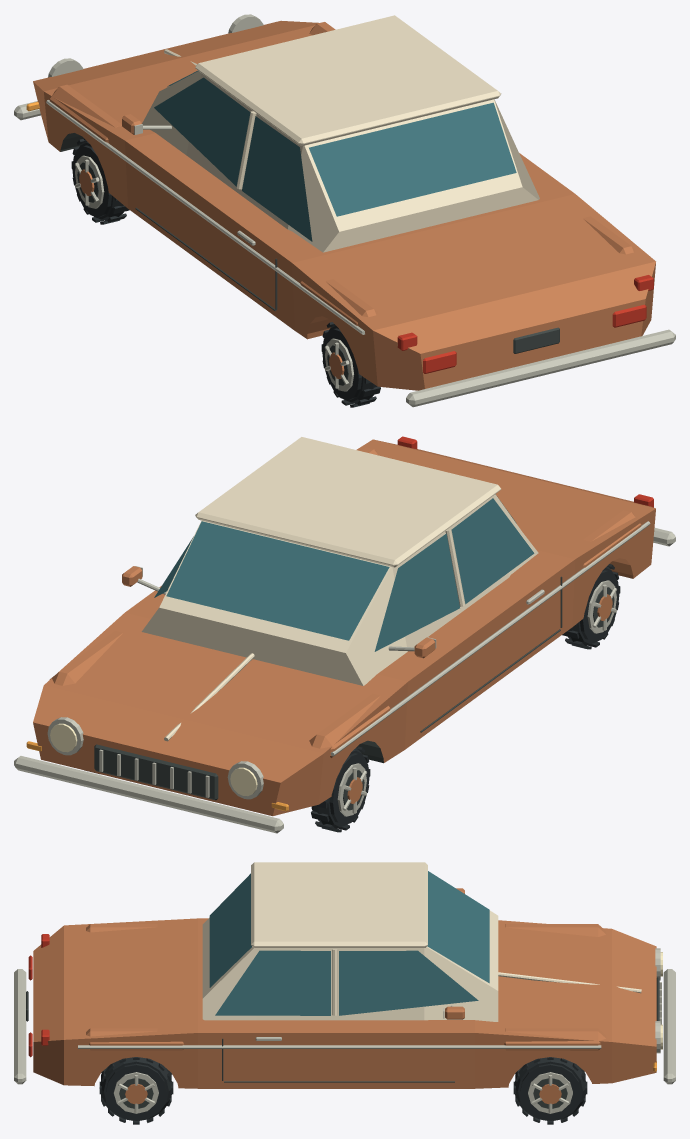
File: car.glb
The picture shows the model from 3 angles, top to bottom: view 1: azimuth 30°, elevation 25°; view 2: azimuth 150°, elevation 25°; view 3: azimuth 270°, elevation 25°; orthographic projection. The views are drawn at different scales.
Visible parts, largest first — view 1: CarModel Copper enamel, CarModel Warm cream, CarModel Teal canopy, CarModel Warm alloy, CarModel Red lamp, Spin.001 Rubber charcoal, Spin Rubber charcoal, CarModel Dark grille, Spin Warm alloy, Spin.001 Warm alloy; view 2: CarModel Copper enamel, CarModel Warm cream, CarModel Teal canopy, CarModel Warm alloy, CarModel Dark grille, Spin Rubber charcoal, Spin.001 Rubber charcoal, CarModel Ivory lamp, Spin.001 Warm alloy, Spin Warm alloy; view 3: CarModel Copper enamel, CarModel Warm cream, CarModel Teal canopy, CarModel Warm alloy, Spin.002 Rubber charcoal, Spin.003 Rubber charcoal, Spin.003 Warm alloy, Spin.002 Warm alloy, CarModel Dark grille, CarModel Red lamp, Spin.002 Dark grille.
Boxes of the visible parts, left/top/right/bottom form: CarModel Copper enamel: left=33, top=20, right=655, bottom=390; CarModel Warm cream: left=142, top=15, right=539, bottom=252; CarModel Teal canopy: left=154, top=70, right=516, bottom=241; CarModel Warm alloy: left=14, top=14, right=675, bottom=407; CarModel Red lamp: left=397, top=275, right=653, bottom=373; Spin.001 Rubber charcoal: left=321, top=322, right=380, bottom=407; Spin Rubber charcoal: left=71, top=138, right=129, bottom=224; CarModel Dark grille: left=135, top=207, right=559, bottom=353; Spin Warm alloy: left=74, top=155, right=104, bottom=208; Spin.001 Warm alloy: left=324, top=338, right=353, bottom=391; CarModel Copper enamel: left=33, top=439, right=655, bottom=816; CarModel Warm cream: left=141, top=437, right=538, bottom=741; CarModel Teal canopy: left=154, top=494, right=534, bottom=651; CarModel Warm alloy: left=14, top=521, right=675, bottom=833; CarModel Dark grille: left=94, top=576, right=562, bottom=800; Spin Rubber charcoal: left=311, top=746, right=370, bottom=832; Spin.001 Rubber charcoal: left=562, top=564, right=620, bottom=649; CarModel Ivory lamp: left=50, top=723, right=257, bottom=796; Spin.001 Warm alloy: left=587, top=580, right=616, bottom=633; Spin Warm alloy: left=337, top=763, right=367, bottom=816; CarModel Copper enamel: left=33, top=888, right=656, bottom=1088; CarModel Warm cream: left=202, top=862, right=641, bottom=1021; CarModel Teal canopy: left=209, top=871, right=489, bottom=1015; CarModel Warm alloy: left=14, top=948, right=675, bottom=1084; Spin.002 Rubber charcoal: left=513, top=1057, right=587, bottom=1124; Spin.003 Rubber charcoal: left=99, top=1057, right=173, bottom=1124; Spin.003 Warm alloy: left=113, top=1072, right=158, bottom=1113; Spin.002 Warm alloy: left=528, top=1072, right=572, bottom=1113; CarModel Dark grille: left=26, top=977, right=659, bottom=1082; CarModel Red lamp: left=28, top=934, right=49, bottom=1057; Spin.002 Dark grille: left=533, top=1078, right=567, bottom=1108.
Size of the model in its own units: 1.89 by 1.23 by 4.3.
